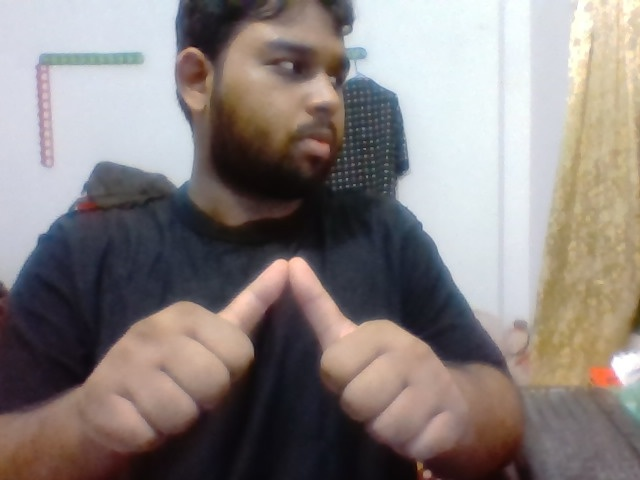A: (94, 251, 470, 465)
